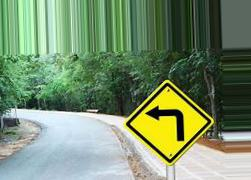left: (124, 79, 213, 166)
